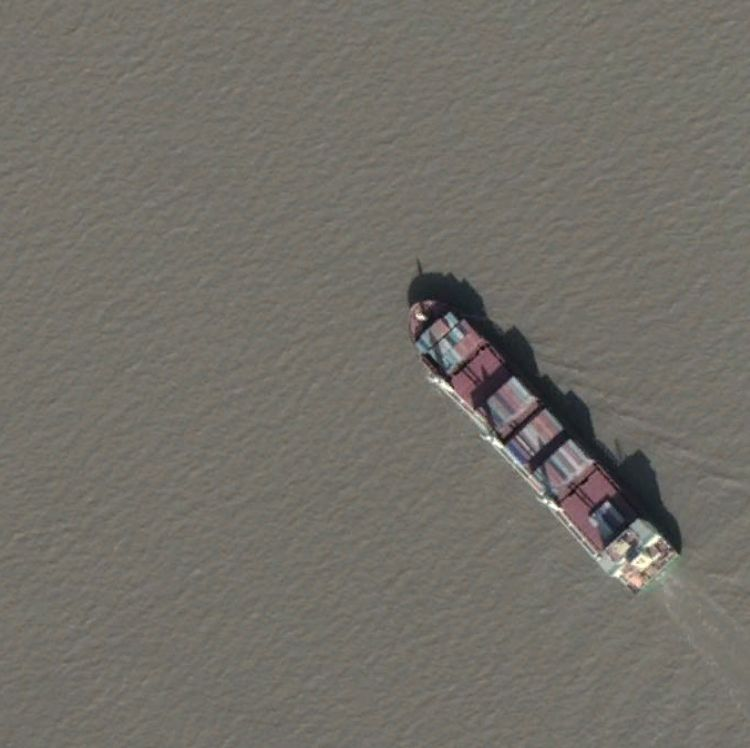boat: (404, 285, 683, 602)
